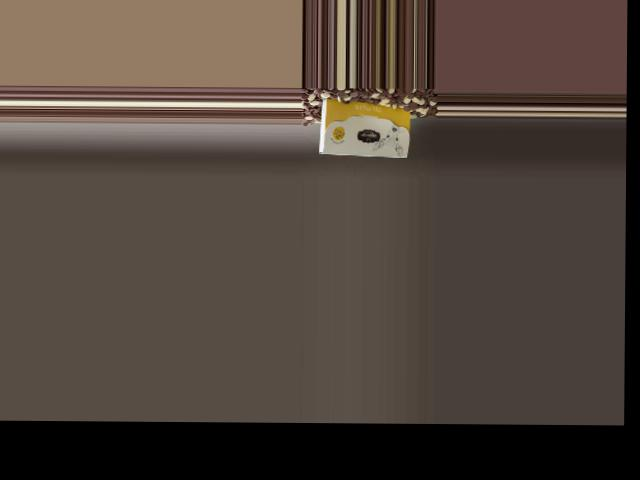chocolate: (314, 95, 416, 161)
